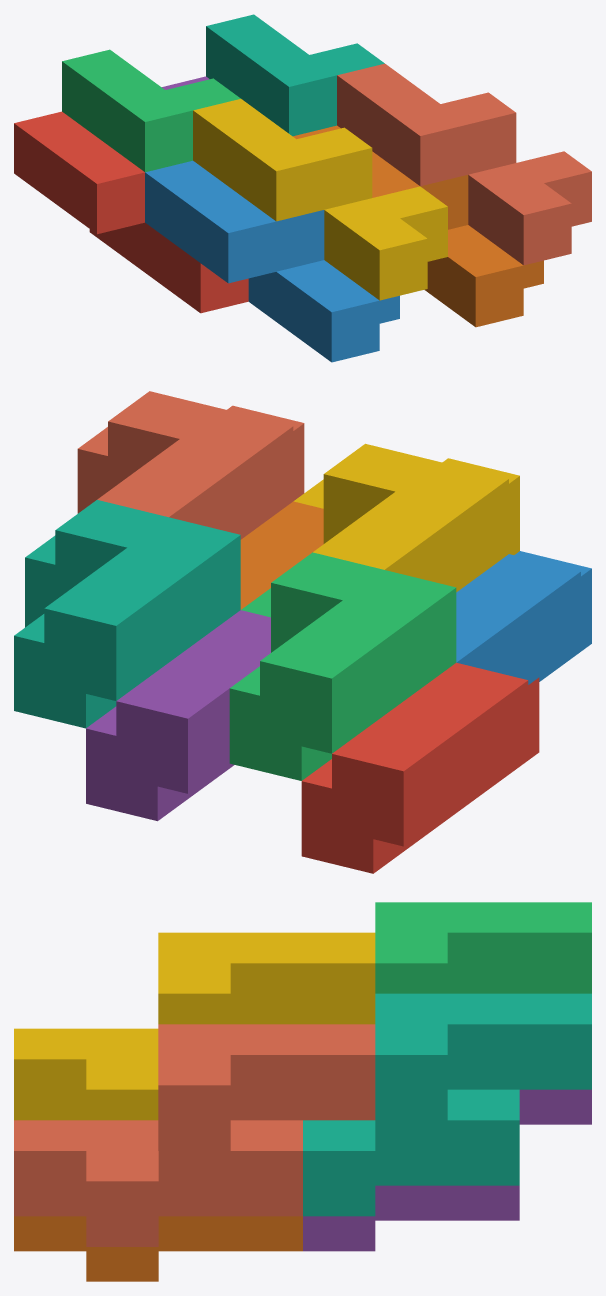
File: tiling.obj
3 views of the same model, one above another, from view 1: azimuth 30°, elevation 25°; view 2: azimuth 150°, elevation 25°; view 3: azimuth 270°, elevation 25° (orthographic). The views are drawn at different scales.
Visible parts, largest first — view 1: copy_1_domain_4, copy_1_domain_8, copy_1_domain_2, copy_1_domain_1, copy_1_domain_3, copy_1_domain_7, copy_1_domain_6; view 2: copy_1_domain_7, copy_1_domain_3, copy_1_domain_1, copy_1_domain_8, copy_1_domain_4, copy_1_domain_5, copy_1_domain_2, copy_1_domain_6; view 3: copy_1_domain_8, copy_1_domain_7, copy_1_domain_4, copy_1_domain_3, copy_1_domain_5, copy_1_domain_6.
Part boxes in pixels (left/top/right/bottom): copy_1_domain_4: left=193, top=99, right=447, bottom=300; copy_1_domain_8: left=337, top=63, right=591, bottom=265; copy_1_domain_2: left=145, top=160, right=399, bottom=362; copy_1_domain_1: left=14, top=111, right=248, bottom=313; copy_1_domain_3: left=62, top=49, right=240, bottom=172; copy_1_domain_7: left=206, top=14, right=384, bottom=136; copy_1_domain_6: left=293, top=125, right=543, bottom=327; copy_1_domain_7: left=14, top=500, right=240, bottom=728; copy_1_domain_3: left=229, top=552, right=456, bottom=780; copy_1_domain_1: left=301, top=662, right=539, bottom=873; copy_1_domain_8: left=77, top=391, right=304, bottom=539; copy_1_domain_4: left=293, top=443, right=519, bottom=592; copy_1_domain_5: left=86, top=610, right=270, bottom=821; copy_1_domain_2: left=456, top=551, right=591, bottom=684; copy_1_domain_6: left=240, top=501, right=323, bottom=609; copy_1_domain_8: left=14, top=1024, right=375, bottom=1246; copy_1_domain_7: left=303, top=993, right=591, bottom=1216; copy_1_domain_4: left=14, top=932, right=375, bottom=1120; copy_1_domain_3: left=375, top=902, right=591, bottom=993; copy_1_domain_5: left=303, top=1089, right=591, bottom=1251; copy_1_domain_6: left=14, top=1216, right=302, bottom=1281.
Size of the model in its own units: 8 by 3 by 8.
